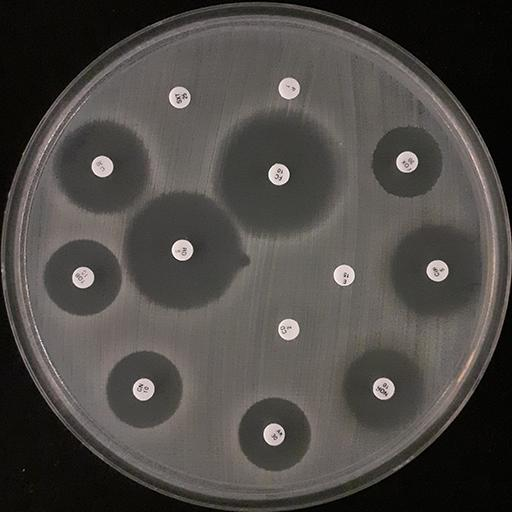disc: (71, 266, 94, 289), (333, 264, 356, 287), (372, 377, 395, 400), (168, 86, 191, 108), (278, 77, 301, 99), (396, 151, 419, 173), (91, 155, 114, 177), (171, 239, 194, 261), (277, 319, 300, 341), (426, 260, 449, 282), (263, 423, 285, 446), (132, 378, 155, 400), (268, 163, 290, 185)
